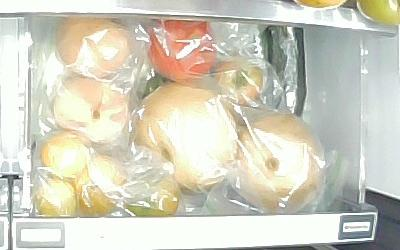peach_vinyl: (51, 75, 129, 145), (56, 15, 135, 77)
pear_vinyl: (133, 81, 238, 193), (233, 110, 322, 214)
tangerine_vinyl: (75, 155, 128, 218), (41, 134, 97, 178), (128, 176, 181, 218), (35, 177, 78, 218)
tomato_vinyl: (146, 17, 216, 81), (217, 56, 263, 109)
